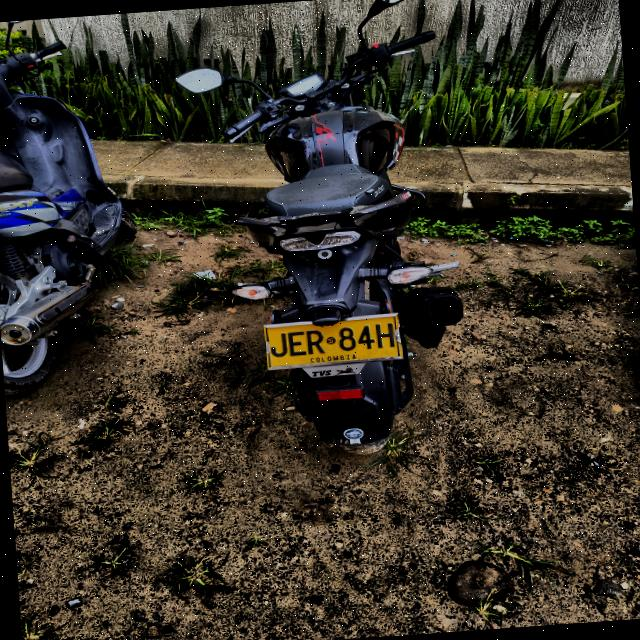plate: (264, 314, 401, 369)
